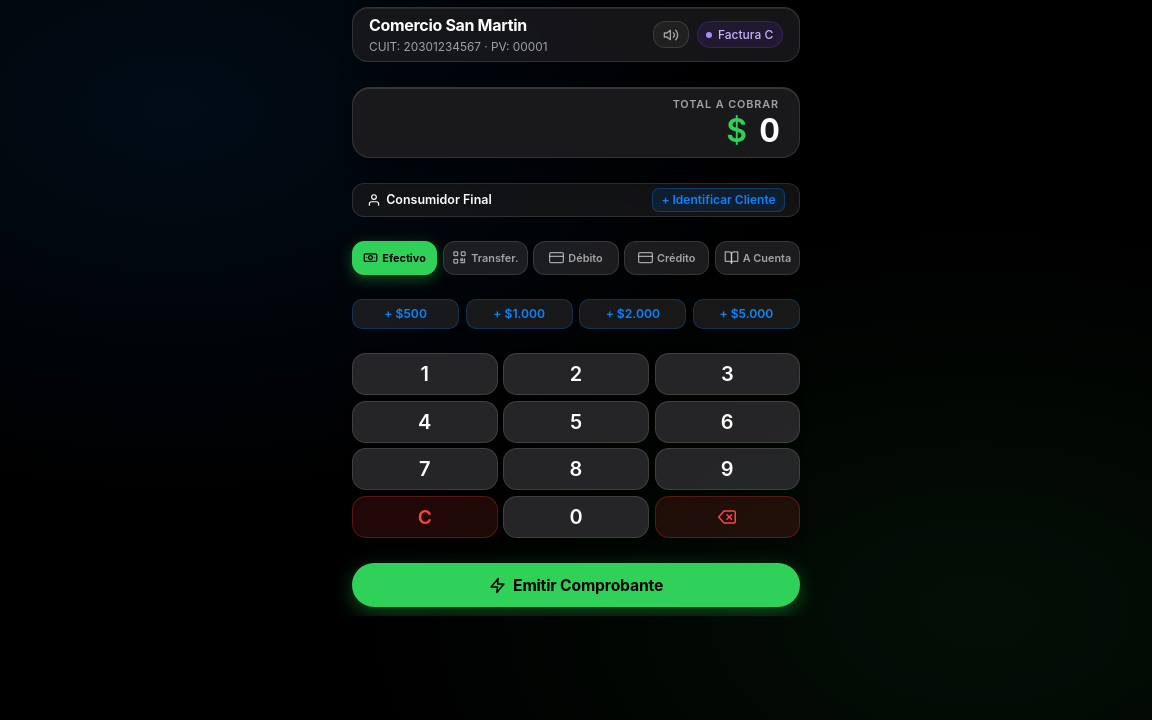
PosTerminal Component › permite sumar atajos rapidos de dinero (+1000)
Click the button "+ $1.000" at (519, 314), box 466,299 -> 573,329
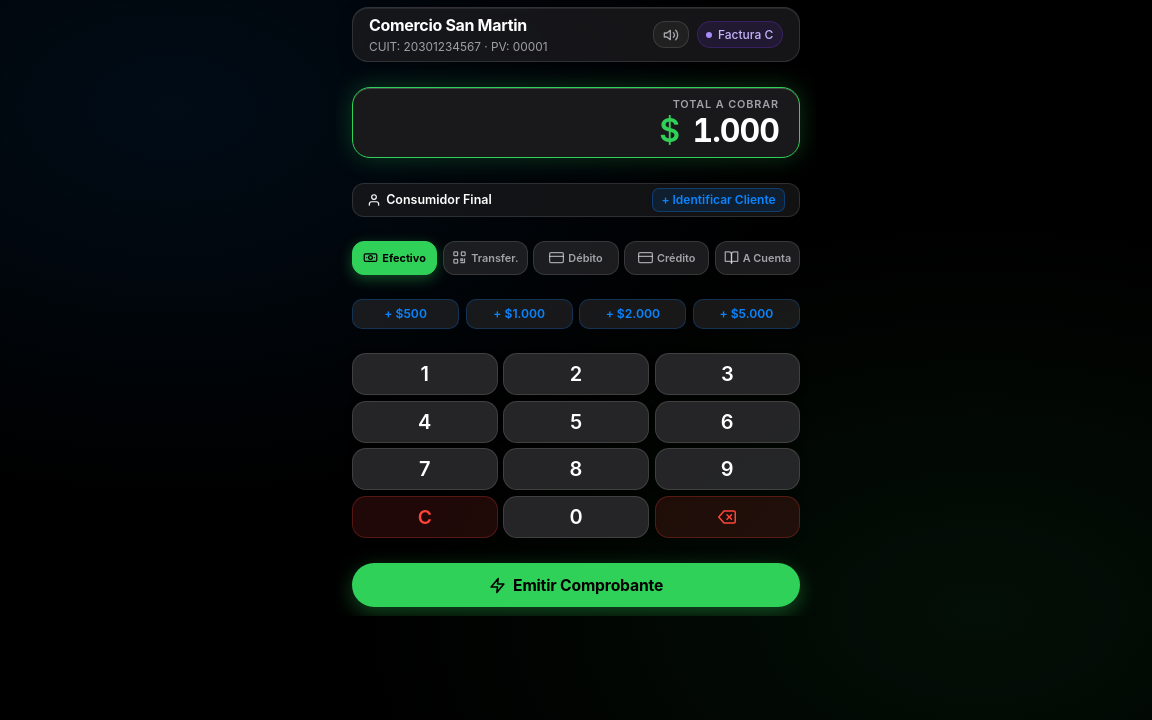
Click the button "+ $1.000" at (519, 314), box 466,299 -> 573,329
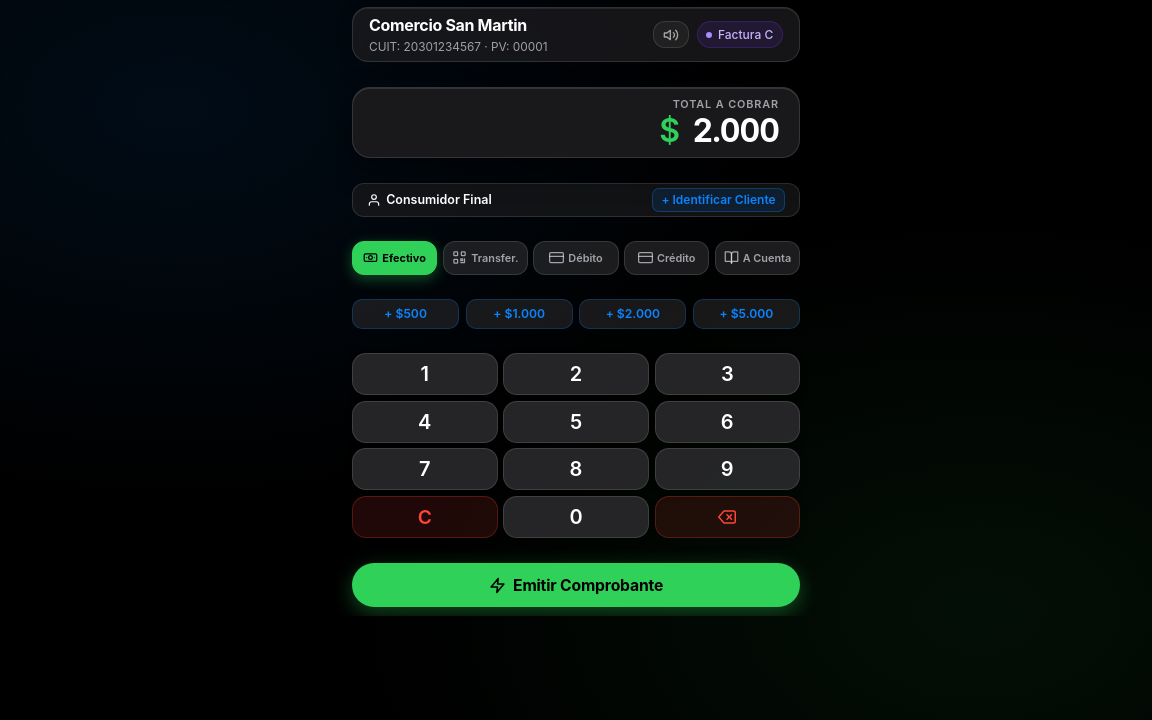
Check: the element with test id "pos-amount-display" shows "2.000", box 692,111 -> 779,150
